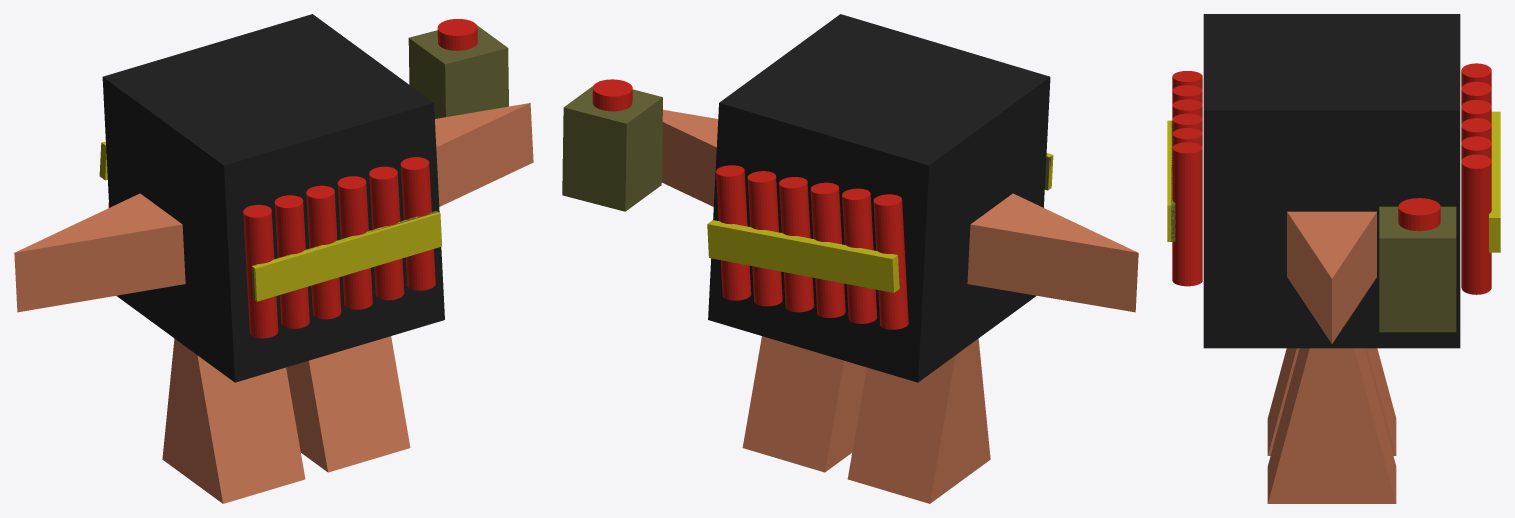
The model's file is character.dae.
3 renders of one model, left to right at view 1: azimuth 30°, elevation 25°; view 2: azimuth 150°, elevation 25°; view 3: azimuth 270°, elevation 25°, orthographic. The views are drawn at different scales.
Parts seen in each view (by area): view 1: Character; view 2: Character; view 3: Character.
Boxes of the visible parts, x1,y1,x2,y2 form: Character: (14,14,533,503); Character: (562,14,1138,503); Character: (1167,14,1500,503).
Bounding box in the file's own units: 4.94 × 2.59 × 3.45.
